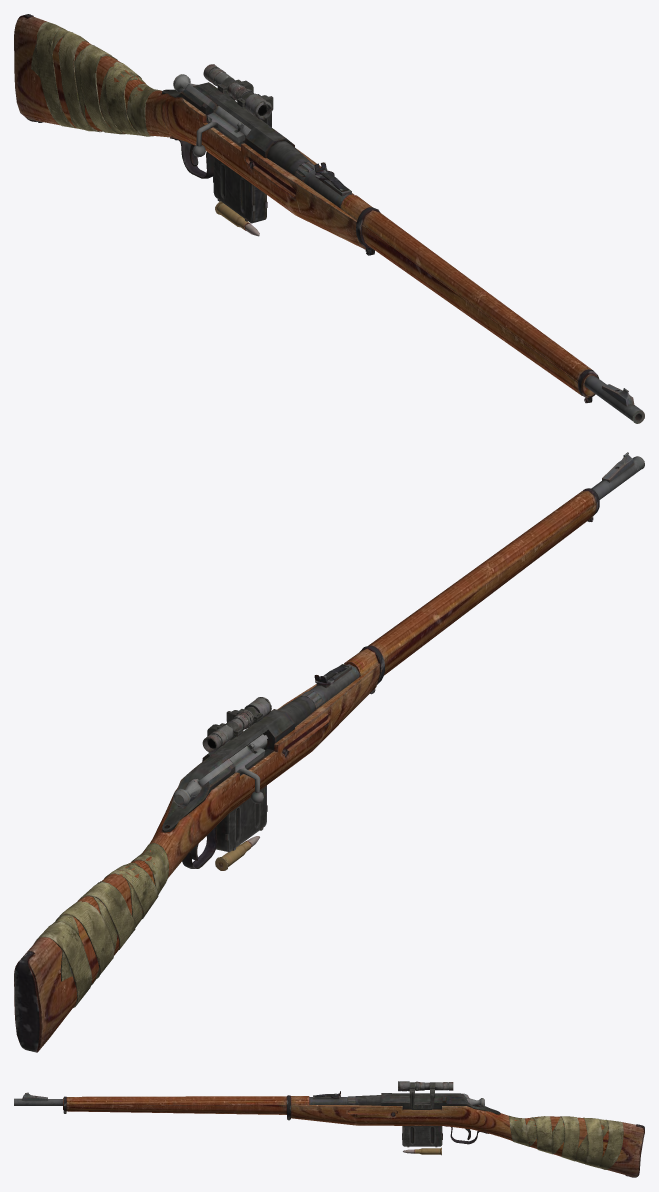
The model's file is rifle_caca.glb.
The picture shows the model from 3 angles, top to bottom: view 1: azimuth 30°, elevation 25°; view 2: azimuth 150°, elevation 25°; view 3: azimuth 270°, elevation 25°; orthographic projection. The views are drawn at different scales.
Visible parts, largest first — view 1: Malha; view 2: Malha; view 3: Malha.
Part boxes in pixels (box(x1,y1,x2,y2)): Malha: box(14, 14, 644, 423); Malha: box(14, 452, 644, 1052); Malha: box(14, 1081, 644, 1177).
Size of the model in its own units: 0.0595 by 0.1829 by 1.1.
3 materials, 3 textured.
